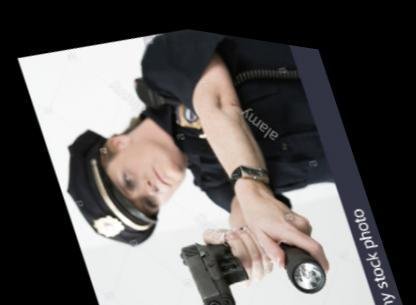pistol: (173, 216, 259, 303)
